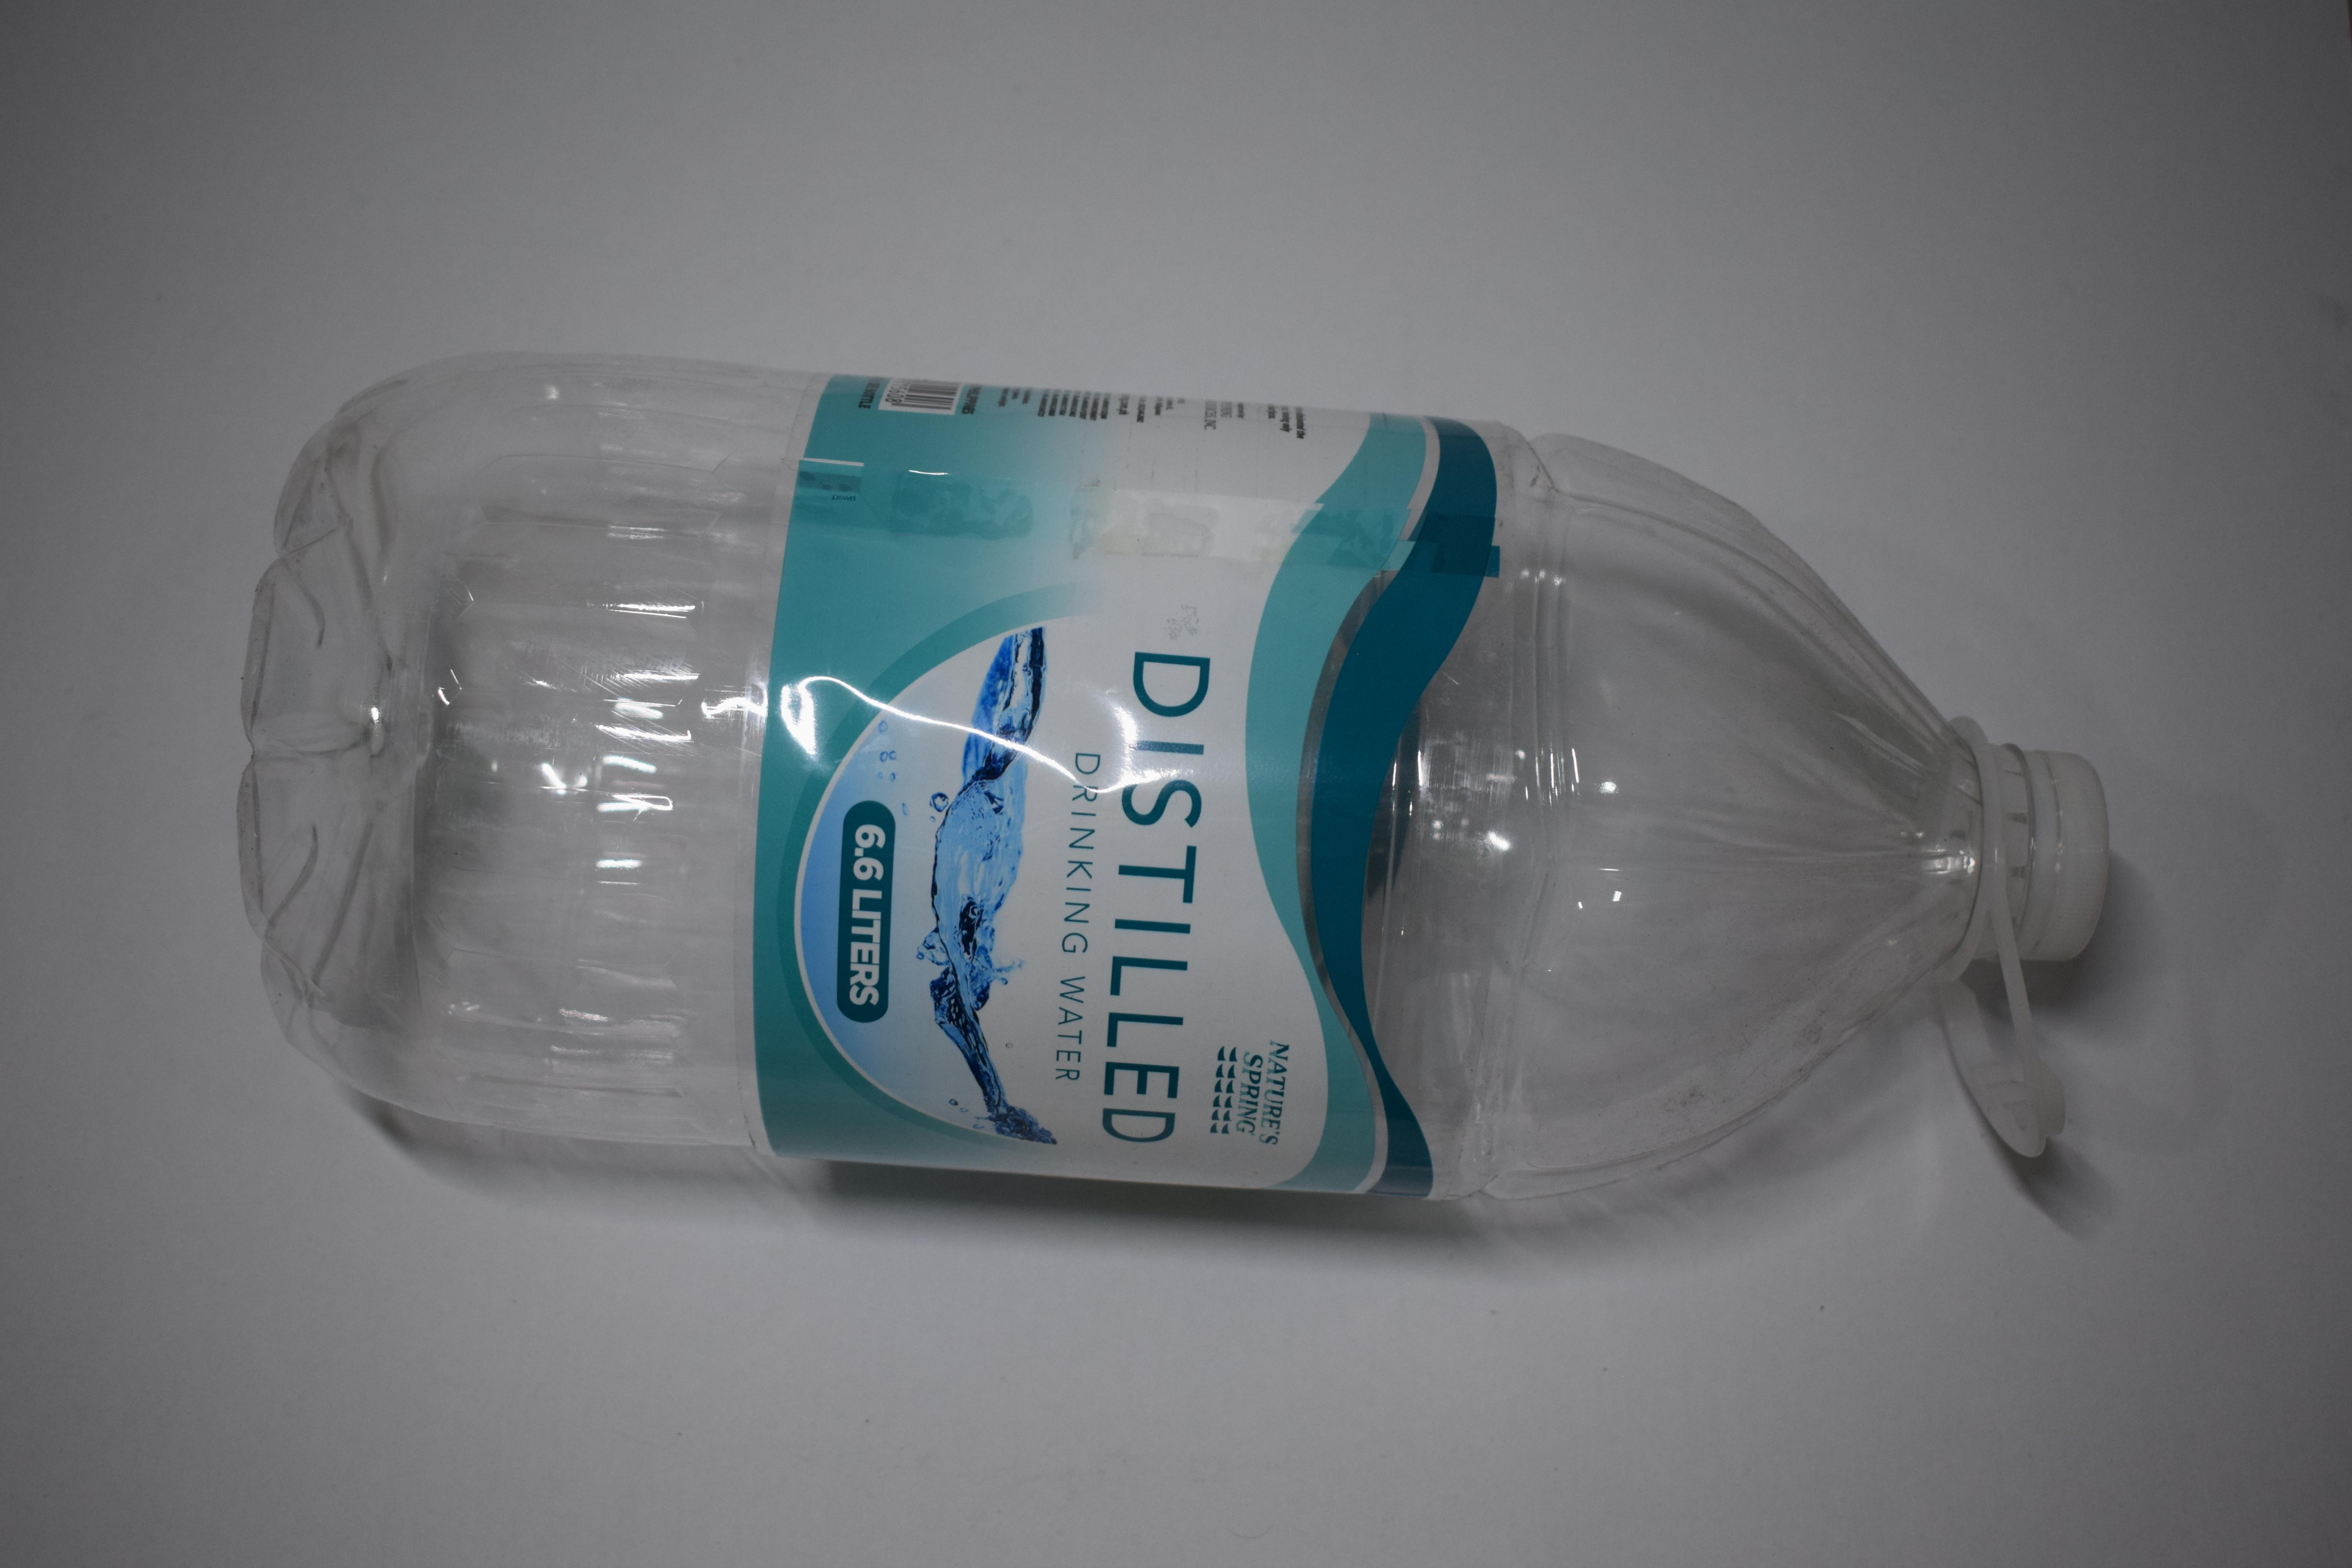bottle: (228, 732, 2118, 826)
